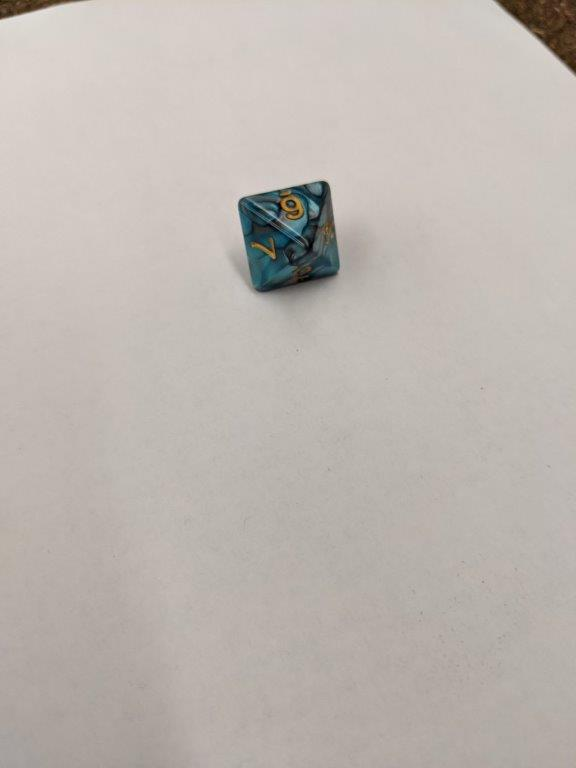d8-6: (238, 180, 343, 296)
